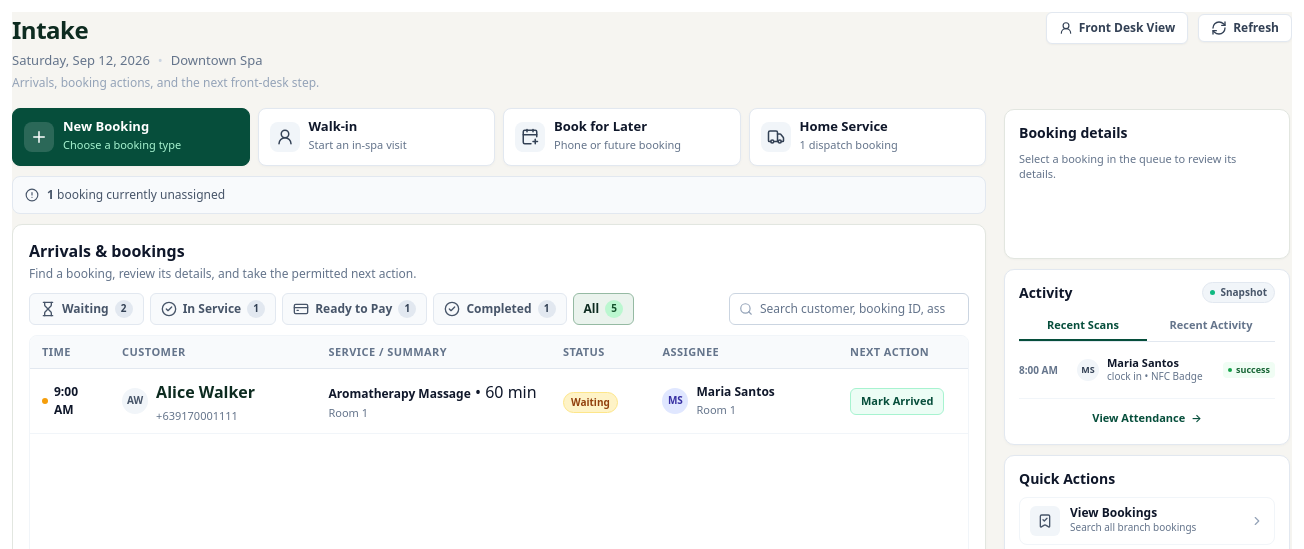
Test: TodayView Component Suite › Intake booking inspector › starts empty and shows only authoritative details after selection
Check: the row with test id "today-row-booking-01" is shown, box x1=30 y1=368 x2=968 y2=433
Check: the element with test id "today-booking-inspector" shows "Select a booking", box x1=1019 y1=150 x2=1236 y2=181
Click the button with aria-label "Review booking for Alice Walker": (206, 392) x1=156 y1=377 x2=255 y2=407
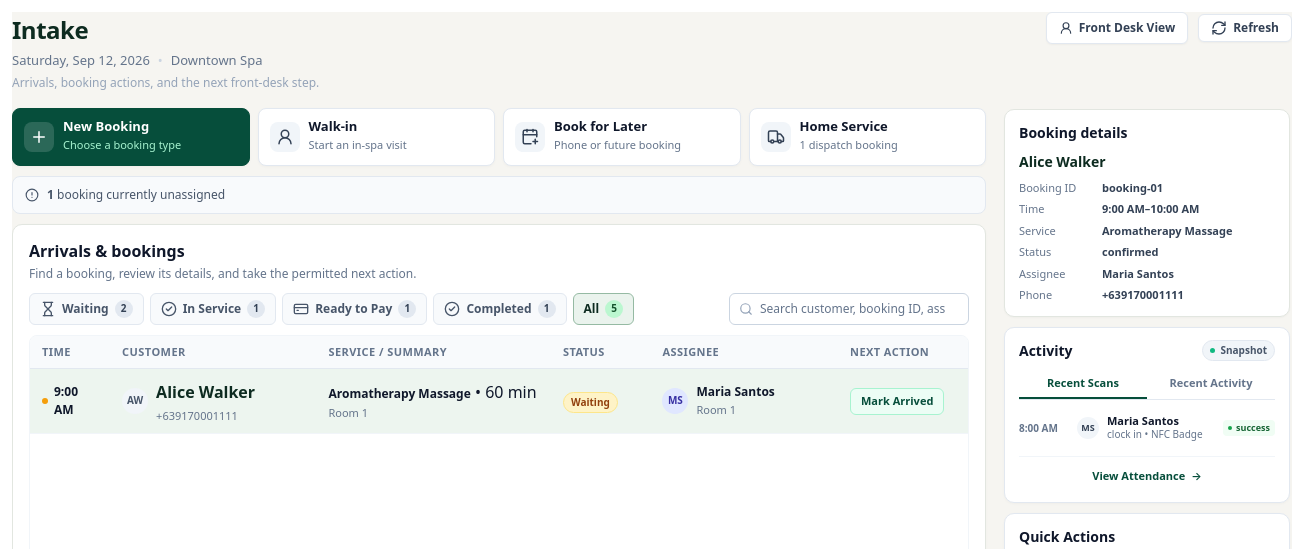
Check: the element with test id "today-booking-inspector" shows "booking-01", box x1=1102 y1=180 x2=1163 y2=194
Check: the element with test id "today-booking-inspector" shows "Aromatherapy Massage", box x1=1102 y1=222 x2=1232 y2=238
Check: the element with test id "today-booking-inspector" shows "Maria Santos", box x1=1102 y1=266 x2=1174 y2=280
Click the button with aria-label "Review booking for Alice Walker": (206, 392) x1=156 y1=377 x2=255 y2=407
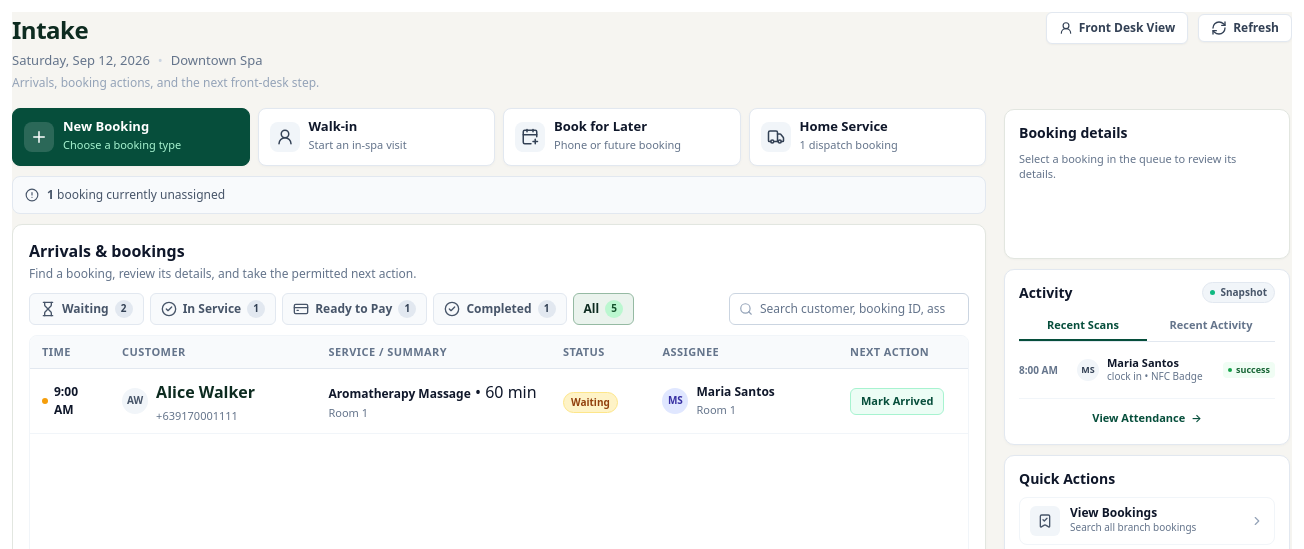
Check: the element with test id "today-booking-inspector" shows "Select a booking", box x1=1019 y1=150 x2=1236 y2=181
